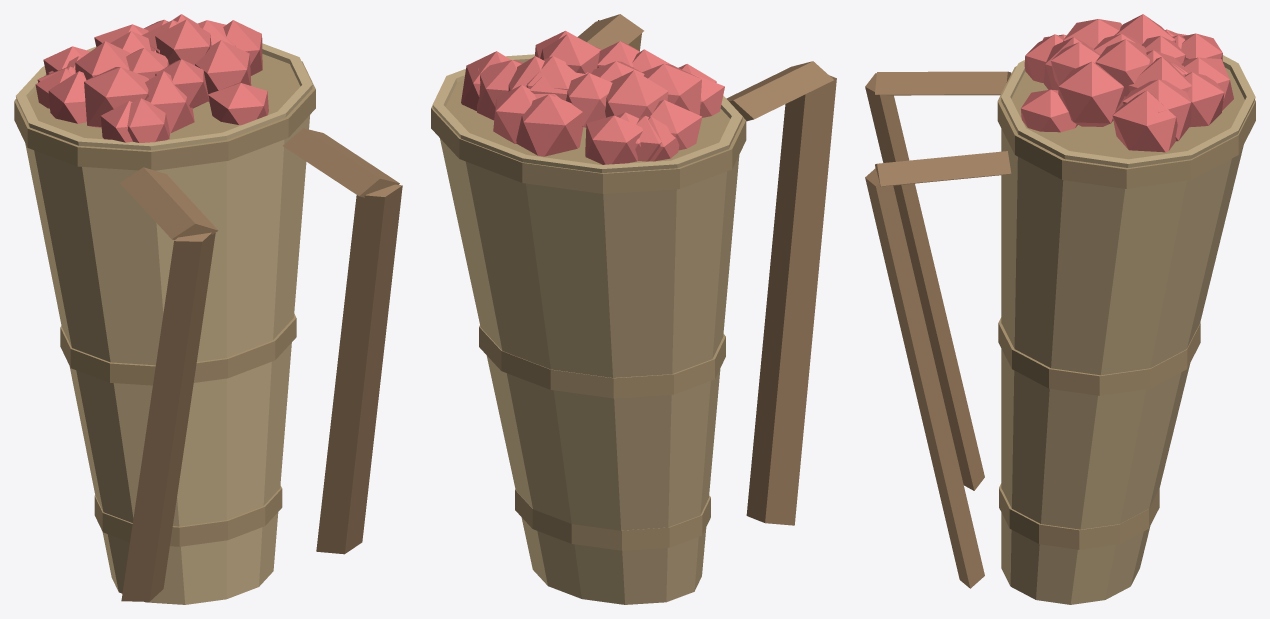
Rendered from load_hotte.glb.
The picture shows the model from 3 angles, left to right: view 1: azimuth 30°, elevation 25°; view 2: azimuth 150°, elevation 25°; view 3: azimuth 270°, elevation 25°; orthographic projection. The views are drawn at different scales.
Parts seen in each view (by area): view 1: Carry.Hotte, Carry.Hotte.Strap#3, Carry.Hotte.Strap, Carry.Hotte.Band#3, Carry.Hotte.Band#2, Carry.Hotte.Strap#2, Carry.Hotte.Strap#4, Carry.Hotte.Band, Goods.Heap#17, Goods.Heap#24, Goods.Heap#16, Goods.Heap#6 (+11 smaller); view 2: Carry.Hotte, Carry.Hotte.Strap, Carry.Hotte.Band#3, Carry.Hotte.Band#2, Carry.Hotte.Band, Goods.Heap#12, Carry.Hotte.Strap#2, Goods.Heap#25, Goods.Heap#11, Goods.Heap#17, Goods.Heap, Goods.Heap#8 (+12 smaller); view 3: Carry.Hotte, Carry.Hotte.Strap#3, Carry.Hotte.Band#3, Carry.Hotte.Strap, Carry.Hotte.Band#2, Carry.Hotte.Band, Carry.Hotte.Strap#4, Carry.Hotte.Strap#2, Goods.Heap#16, Goods.Heap#15, Goods.Heap#24, Goods.Heap#6 (+11 smaller).
Part boxes in pixels (box(x1,y1,x2,y2)): Carry.Hotte: box(16, 43, 312, 604); Carry.Hotte.Strap#3: box(316, 184, 402, 554); Carry.Hotte.Strap: box(121, 232, 215, 601); Carry.Hotte.Band#3: box(14, 54, 315, 170); Carry.Hotte.Band#2: box(60, 314, 296, 385); Carry.Hotte.Strap#2: box(120, 167, 218, 240); Carry.Hotte.Strap#4: box(283, 128, 399, 197); Carry.Hotte.Band: box(94, 485, 282, 546); Goods.Heap#17: box(84, 67, 149, 127); Goods.Heap#24: box(208, 82, 268, 124); Goods.Heap#16: box(195, 40, 251, 101); Goods.Heap#6: box(155, 19, 211, 65); Carry.Hotte: box(432, 54, 742, 604); Carry.Hotte.Strap: box(746, 75, 836, 525); Carry.Hotte.Band#3: box(431, 80, 746, 193); Carry.Hotte.Band#2: box(479, 325, 725, 398); Carry.Hotte.Band: box(515, 489, 710, 550); Goods.Heap#12: box(516, 94, 583, 156); Carry.Hotte.Strap#2: box(726, 61, 833, 121); Goods.Heap#25: box(585, 115, 642, 164); Goods.Heap#11: box(605, 70, 668, 117); Goods.Heap#17: box(642, 63, 701, 115); Goods.Heap: box(566, 73, 612, 127); Goods.Heap#8: box(493, 85, 536, 143); Carry.Hotte: box(1001, 55, 1255, 604); Carry.Hotte.Strap#3: box(865, 168, 984, 588); Carry.Hotte.Band#3: box(997, 66, 1255, 188); Carry.Hotte.Strap: box(865, 73, 984, 490); Carry.Hotte.Band#2: box(998, 317, 1200, 395); Carry.Hotte.Band: box(999, 483, 1159, 549); Carry.Hotte.Strap#4: box(875, 151, 1011, 186); Carry.Hotte.Strap#2: box(875, 71, 1011, 95); Goods.Heap#16: box(1058, 61, 1123, 126); Goods.Heap#15: box(1112, 90, 1177, 152); Goods.Heap#24: box(1020, 89, 1077, 132); Goods.Heap#6: box(1095, 39, 1149, 97).
Size of the model in its own units: 0.447 by 0.8239 by 0.541.
